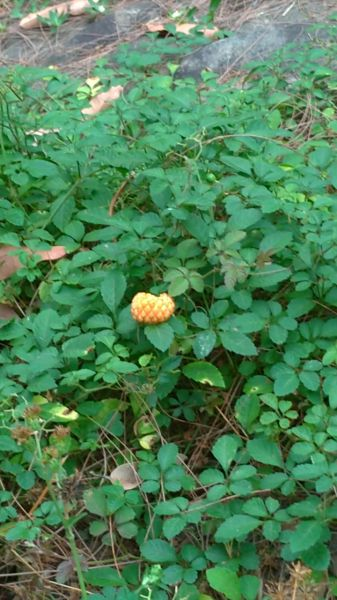eggs: (129, 284, 177, 326)
